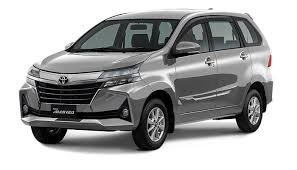mobil: (20, 9, 275, 158)
